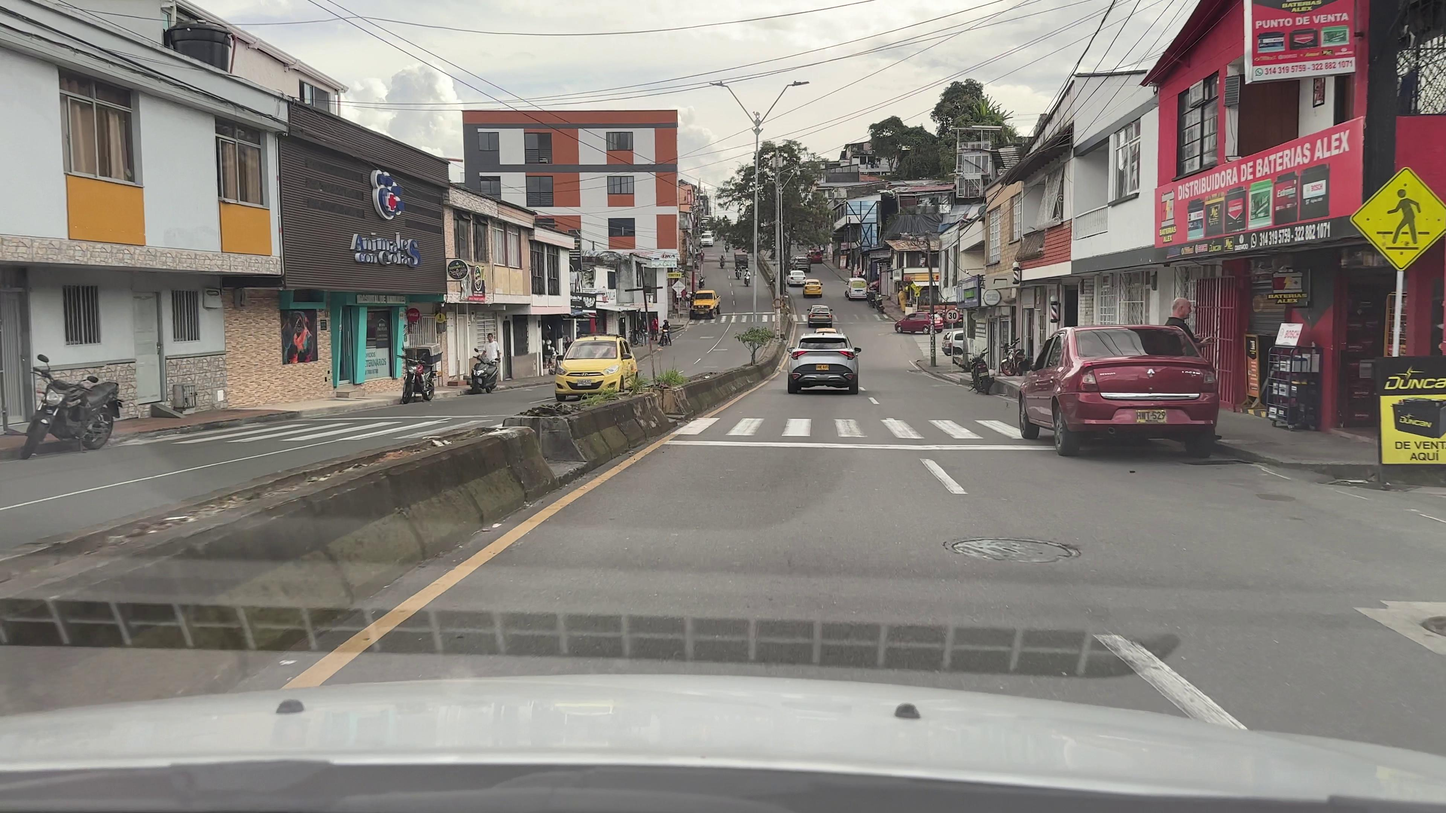registro: (949, 538, 1078, 563)
rejilla: (1327, 480, 1422, 492), (1179, 460, 1258, 465)
